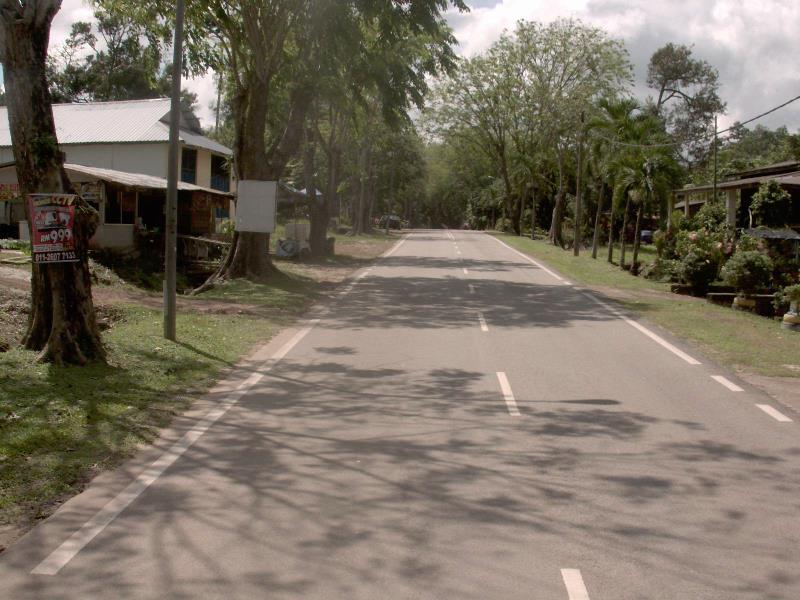ads_sign: (20, 186, 88, 272)
